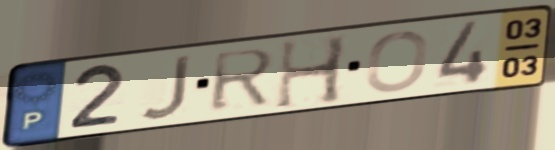2: (68, 61, 128, 133)
4: (433, 18, 493, 87)
H: (272, 32, 352, 113)
J: (136, 51, 195, 122)
O: (362, 28, 432, 94)
R: (208, 46, 280, 115)
